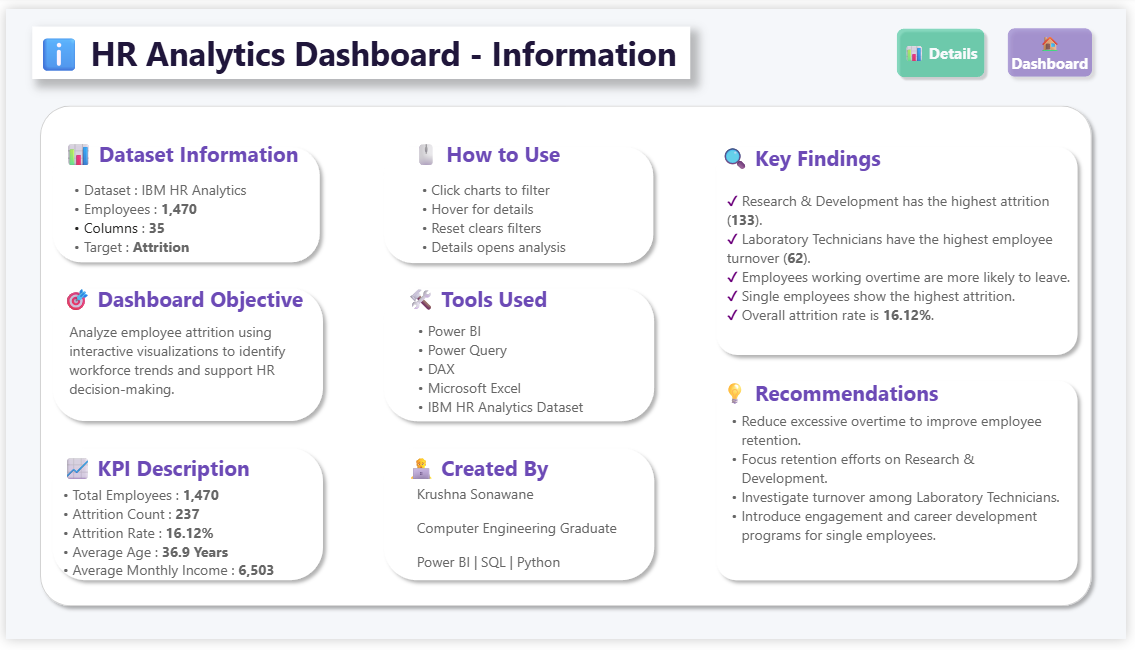

The page's visual inventory and layout, read from the dashboard file:
{"tool":"powerbi","page":{"name":"ℹ️ Information","canvas":[1280,720],"ordinal":2},"visuals":[{"type":"textbox","box":[30.2,20.5,751.6,60.3],"z":0},{"type":"actionButton","box":[1135.3,13.3,114.6,73.6],"z":1000},{"type":"shape","box":[30.2,101.3,1219.7,589.9],"z":2000},{"type":"shape","box":[44.6,310,326.9,170],"z":3000},{"type":"shape","box":[44.6,492.2,326.9,168.9],"z":4000},{"type":"shape","box":[423.5,310.1,326.9,170.1],"z":5000},{"type":"shape","box":[423.5,492.2,326.9,168.9],"z":6000},{"type":"shape","box":[423,148.4,326,150.8],"z":7000},{"type":"shape","box":[44.6,148,323.3,150],"z":8000},{"type":"textbox","box":[61.5,144.8,300.4,50.7],"z":9000},{"type":"textbox","box":[60.3,310.1,300.4,49.5],"z":10000},{"type":"textbox","box":[60.3,503.1,290.8,49.5],"z":11000},{"type":"textbox","box":[458.4,144.8,255.8,50.7],"z":12000},{"type":"textbox","box":[452.4,310.1,255.8,49.5],"z":13000},{"type":"textbox","box":[452.4,503.1,255.8,49.5],"z":14000},{"type":"textbox","box":[60.3,189.4,300.4,101.3],"z":15000},{"type":"textbox","box":[67.6,352.3,281.1,102.5],"z":16000},{"type":"textbox","box":[60.3,539.3,300.4,144.8],"z":17000},{"type":"textbox","box":[470.5,189.4,243.7,100.1],"z":18000},{"type":"textbox","box":[452.4,352,255.8,130.3],"z":19000},{"type":"textbox","box":[464.5,536.9,255.8,124.3],"z":20000},{"type":"shape","box":[802.3,148.4,430.7,255.8],"z":21000},{"type":"textbox","box":[810.7,148.4,207.5,49.5],"z":22000},{"type":"textbox","box":[819.2,202.7,404.2,174.9],"z":23000},{"type":"shape","box":[802.3,415,430.7,246.1],"z":24000},{"type":"textbox","box":[810.7,417.4,271.4,48.3],"z":25000},{"type":"textbox","box":[810.7,454.8,399.3,176.1],"z":26000},{"type":"actionButton","box":[1011,15.7,113.4,68.8],"z":27000}]}

Visuals, with their boxes in screenshot pixels (x1, y1, x2, y2), scaled from the page's 1280x720 canvas onto the 1135x650 screenshot:
textbox: [x1=27, y1=19, x2=693, y2=73]
actionButton: [x1=1007, y1=12, x2=1108, y2=78]
shape: [x1=27, y1=91, x2=1108, y2=624]
shape: [x1=40, y1=280, x2=329, y2=433]
shape: [x1=40, y1=444, x2=329, y2=597]
shape: [x1=376, y1=280, x2=665, y2=434]
shape: [x1=376, y1=444, x2=665, y2=597]
shape: [x1=375, y1=134, x2=664, y2=270]
shape: [x1=40, y1=134, x2=326, y2=269]
textbox: [x1=55, y1=131, x2=321, y2=176]
textbox: [x1=53, y1=280, x2=320, y2=325]
textbox: [x1=53, y1=454, x2=311, y2=499]
textbox: [x1=406, y1=131, x2=633, y2=176]
textbox: [x1=401, y1=280, x2=628, y2=325]
textbox: [x1=401, y1=454, x2=628, y2=499]
textbox: [x1=53, y1=171, x2=320, y2=262]
textbox: [x1=60, y1=318, x2=309, y2=411]
textbox: [x1=53, y1=487, x2=320, y2=618]
textbox: [x1=417, y1=171, x2=633, y2=261]
textbox: [x1=401, y1=318, x2=628, y2=435]
textbox: [x1=412, y1=485, x2=639, y2=597]
shape: [x1=711, y1=134, x2=1093, y2=365]
textbox: [x1=719, y1=134, x2=903, y2=179]
textbox: [x1=726, y1=183, x2=1085, y2=341]
shape: [x1=711, y1=375, x2=1093, y2=597]
textbox: [x1=719, y1=377, x2=960, y2=420]
textbox: [x1=719, y1=411, x2=1073, y2=570]
actionButton: [x1=896, y1=14, x2=997, y2=76]
